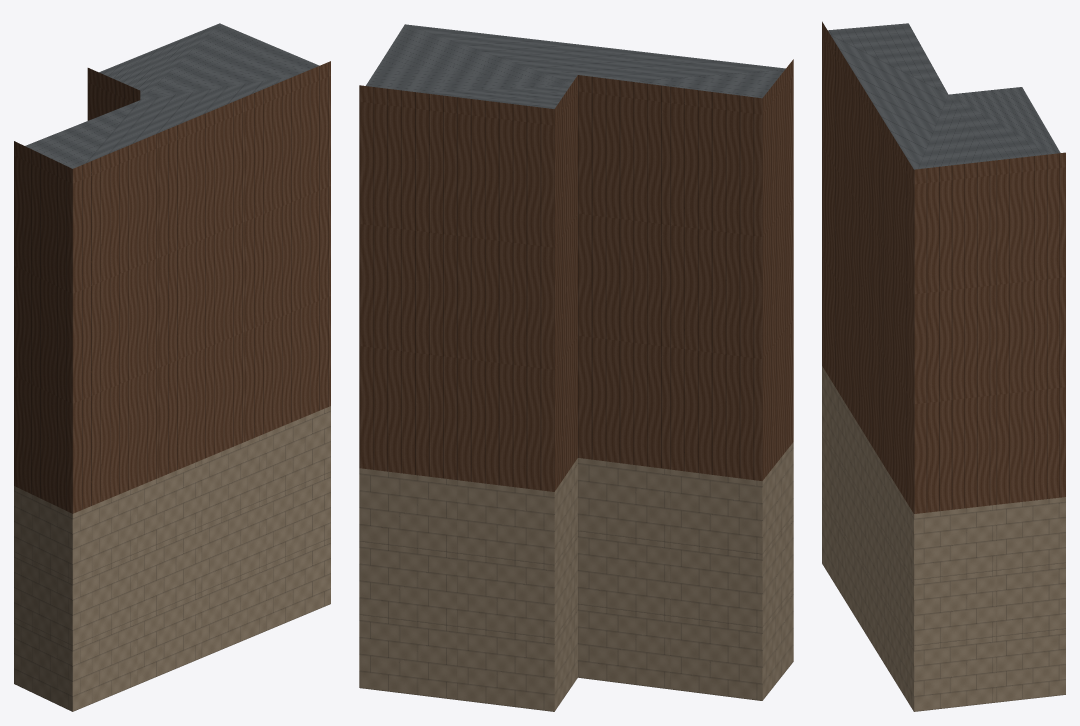
File: bld_c-1_3_516.gltf
3 views of the same model, side by side, from view 1: azimuth 30°, elevation 25°; view 2: azimuth 150°, elevation 25°; view 3: azimuth 270°, elevation 25° (orthographic). The views are drawn at different scales.
Parts seen in each view (by area): view 1: bld_c-1_3_516; view 2: bld_c-1_3_516; view 3: bld_c-1_3_516.
Boxes of the visible parts, box(x1,y1,x2,y2) form: bld_c-1_3_516: box(14, 23, 330, 711); bld_c-1_3_516: box(359, 24, 793, 711); bld_c-1_3_516: box(822, 21, 1065, 711).
Size of the model in its own units: 8.61 by 13.98 by 5.69.
4 materials, 4 textured.
